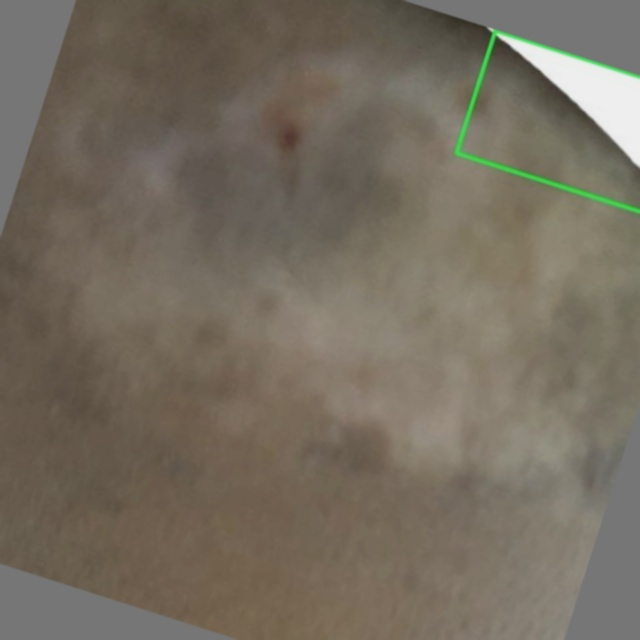Contact Dermatitis: (456, 30, 639, 211)
